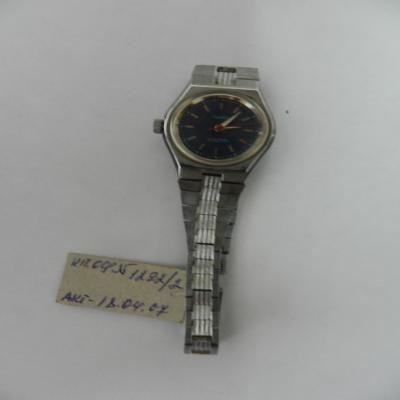technique: (163, 62, 274, 355)
